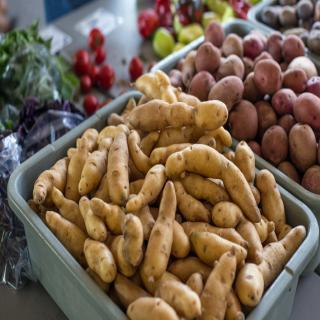Potato: (26, 0, 320, 320), (265, 122, 293, 162), (254, 58, 282, 96)
